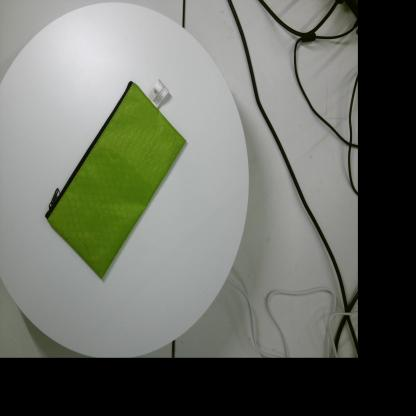Stationery: (45, 79, 186, 279)
